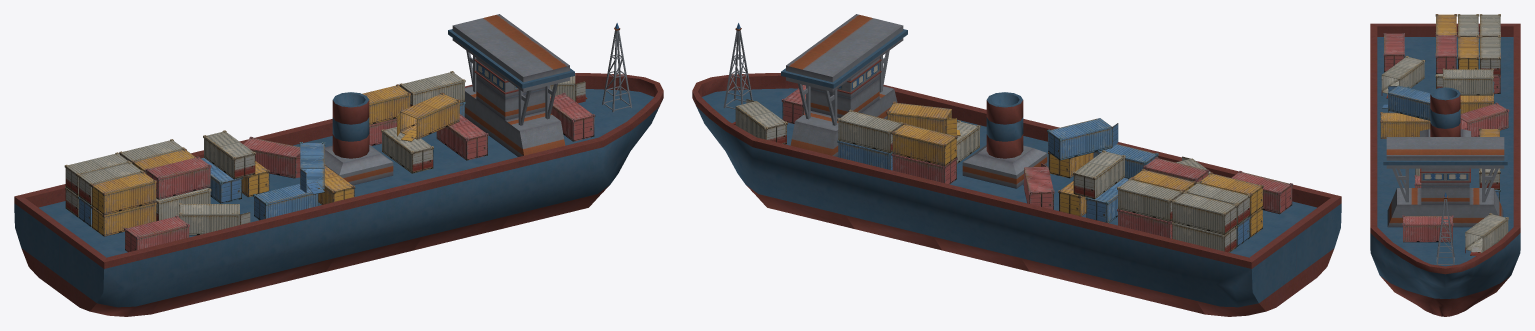
Rendered from Building_Hc01.glb.
The picture shows the model from 3 angles, left to right: view 1: azimuth 30°, elevation 25°; view 2: azimuth 150°, elevation 25°; view 3: azimuth 270°, elevation 25°; orthographic projection. The views are drawn at different scales.
Parts seen in each view (by area): view 1: xiutz_hc_01_0; view 2: xiutz_hc_01_0; view 3: xiutz_hc_01_0.
Part boxes in pixels (x1,y1,x2,y2): xiutz_hc_01_0: (14,14,663,316); xiutz_hc_01_0: (692,14,1341,316); xiutz_hc_01_0: (1370,14,1520,316).
Size of the model in its own units: 129 by 32.34 by 33.56.
Materials: 2 (2 with a texture image).
